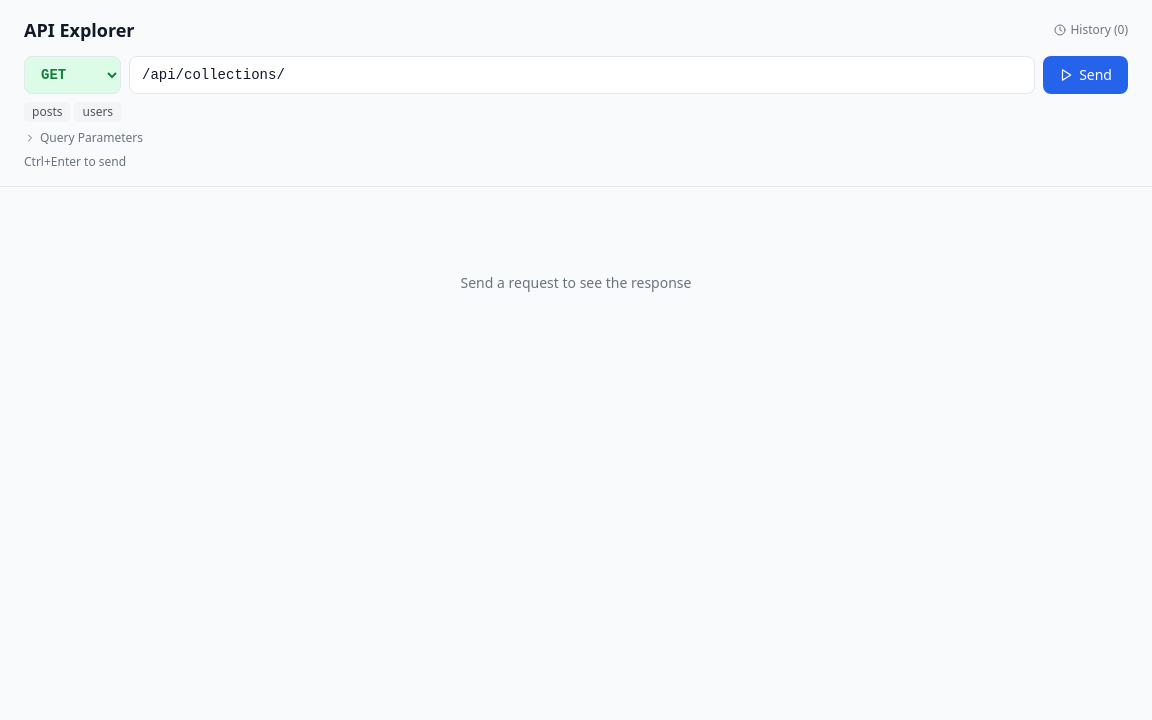
Test case: ApiExplorer › generates curl snippet after response
Replace the text in the field named "Request path" with "/api/collections/posts": (582, 75) [129,56,1035,94]
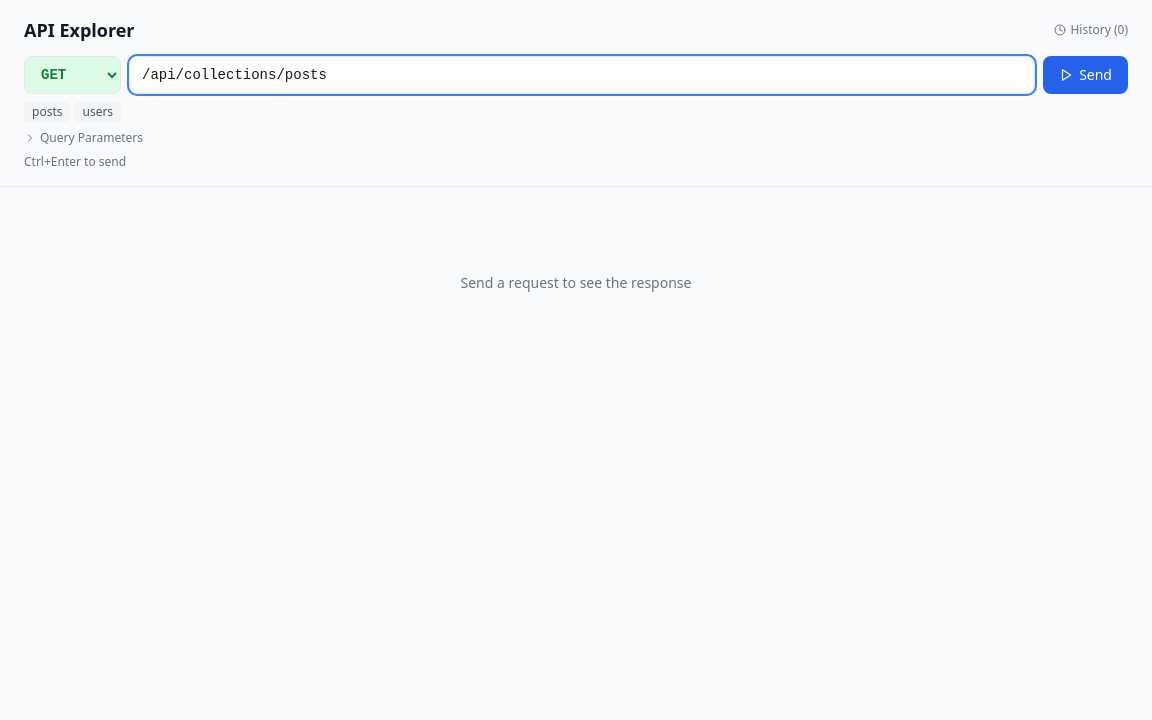
Click the button "Send": (1086, 75) [1043,56,1128,94]
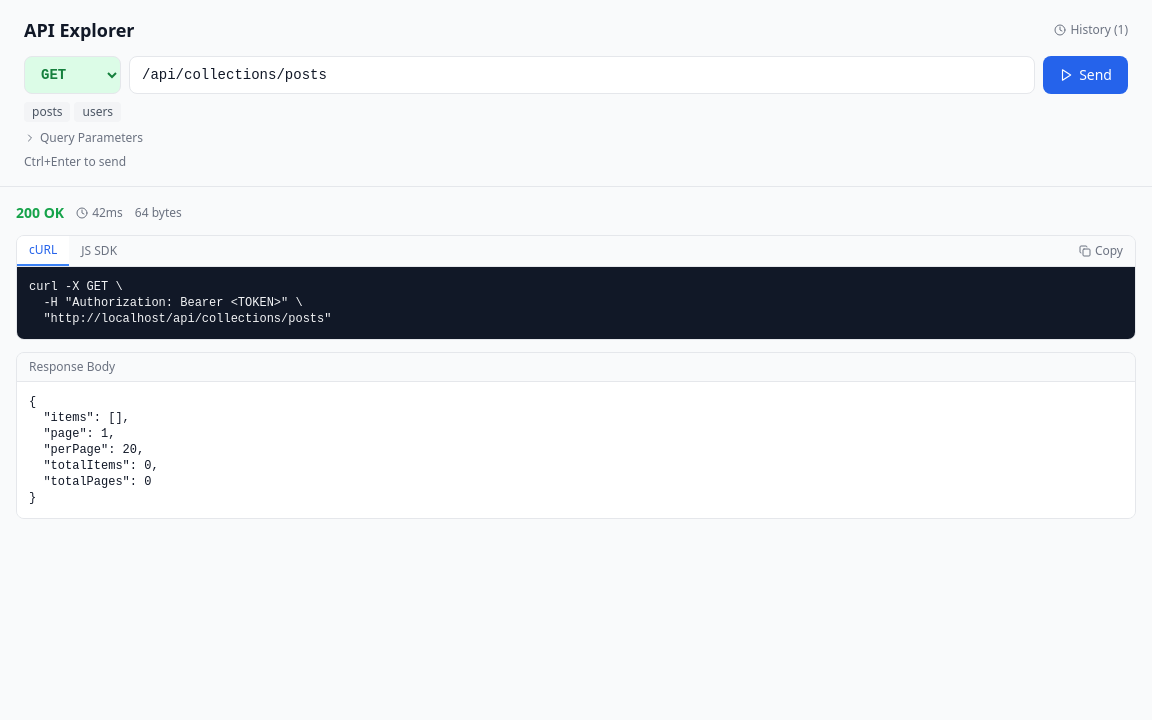
Expected: the button "cURL" is shown, [17,236,69,266]
Expected: the button "JS SDK" is shown, [69,236,129,266]
Expected: the text "curl -X GET" shows "/api/collections/posts", [29,280,332,326]
